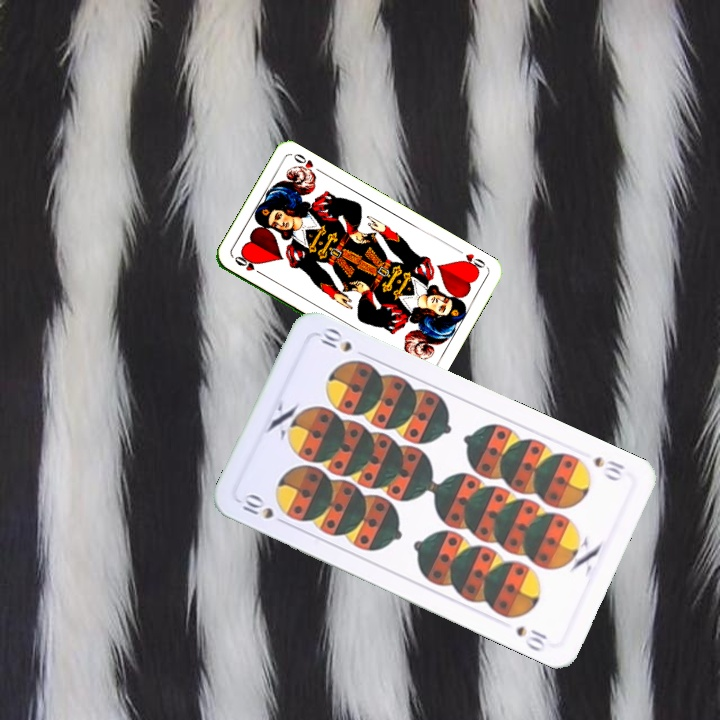HO: (230, 252, 267, 278), (455, 249, 489, 275)
S10: (588, 452, 628, 484), (238, 490, 277, 522)
